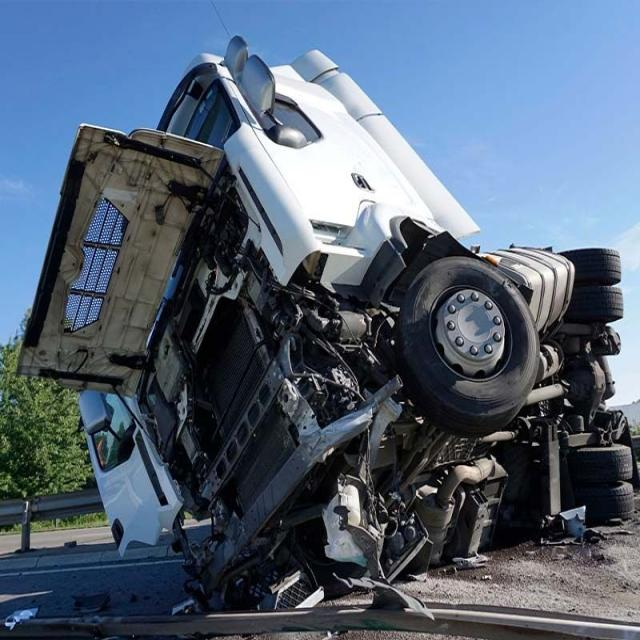Accident: (14, 28, 640, 620)
